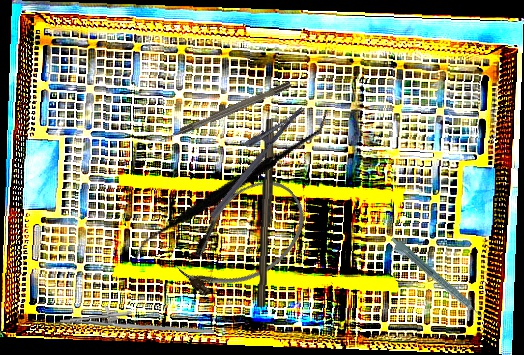Cannula: (163, 164, 322, 315)
Handpiece: (386, 235, 485, 324)
Hook Surgical: (157, 80, 293, 145)
Needle Holder: (194, 94, 306, 219), (59, 299, 214, 342)
Scalpel Handle: (256, 118, 278, 308)
Spatula Surgical: (131, 61, 330, 309)
